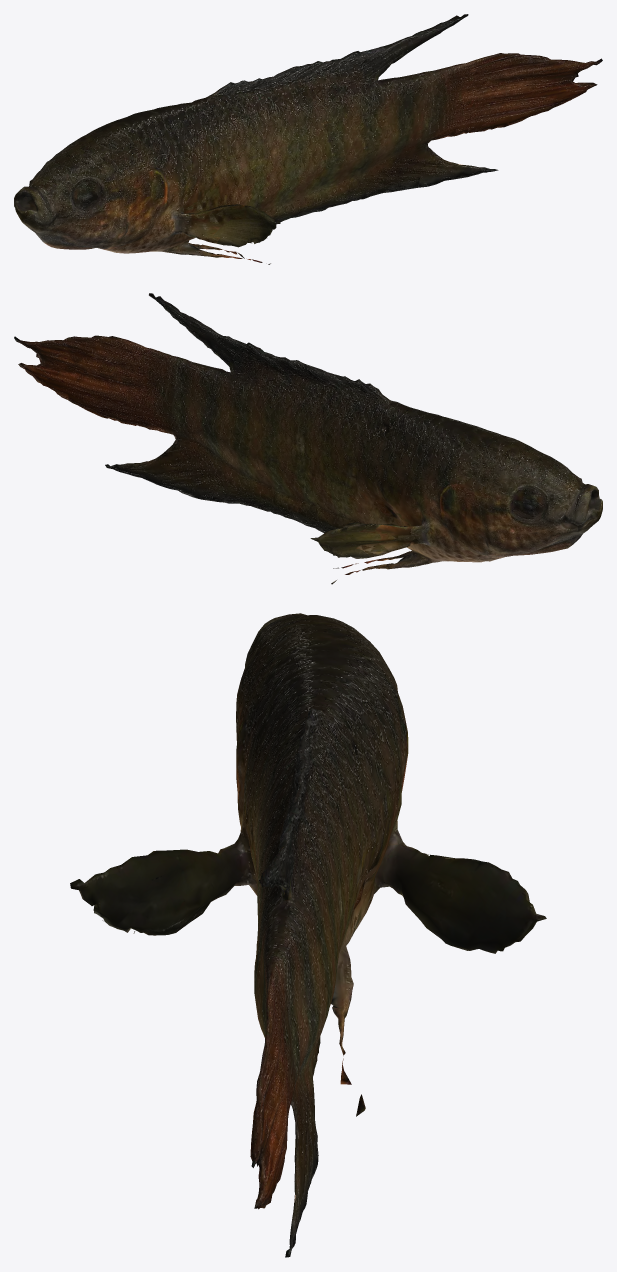
File: paradisefish.glb
The picture shows the model from 3 angles, top to bottom: view 1: azimuth 30°, elevation 25°; view 2: azimuth 150°, elevation 25°; view 3: azimuth 270°, elevation 25°; orthographic projection. The views are drawn at different scales.
Visible parts, largest first — view 1: low; view 2: low; view 3: low.
Boxes of the visible parts, <box> form: low: <box>14,14,602,264</box>; low: <box>14,293,602,584</box>; low: <box>70,613,546,1257</box>.
Size of the model in its own units: 2.41 by 0.8626 by 0.869.
Materials: 1 (1 with a texture image).
